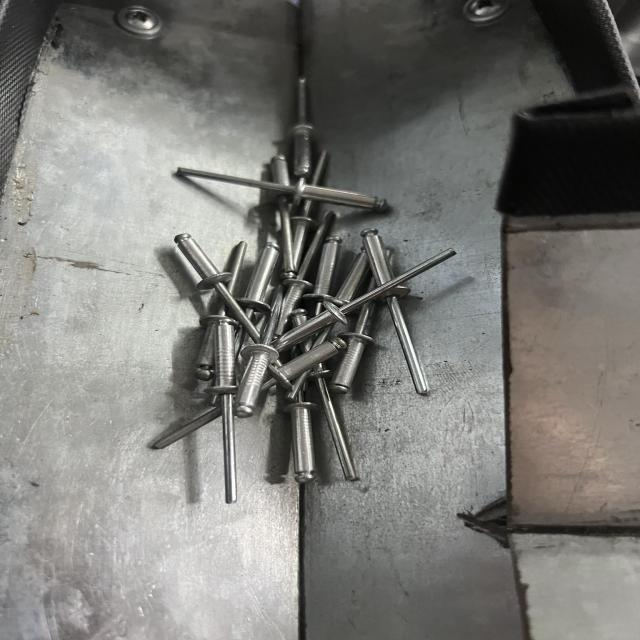rivet: (274, 248, 453, 345), (213, 318, 243, 504)
